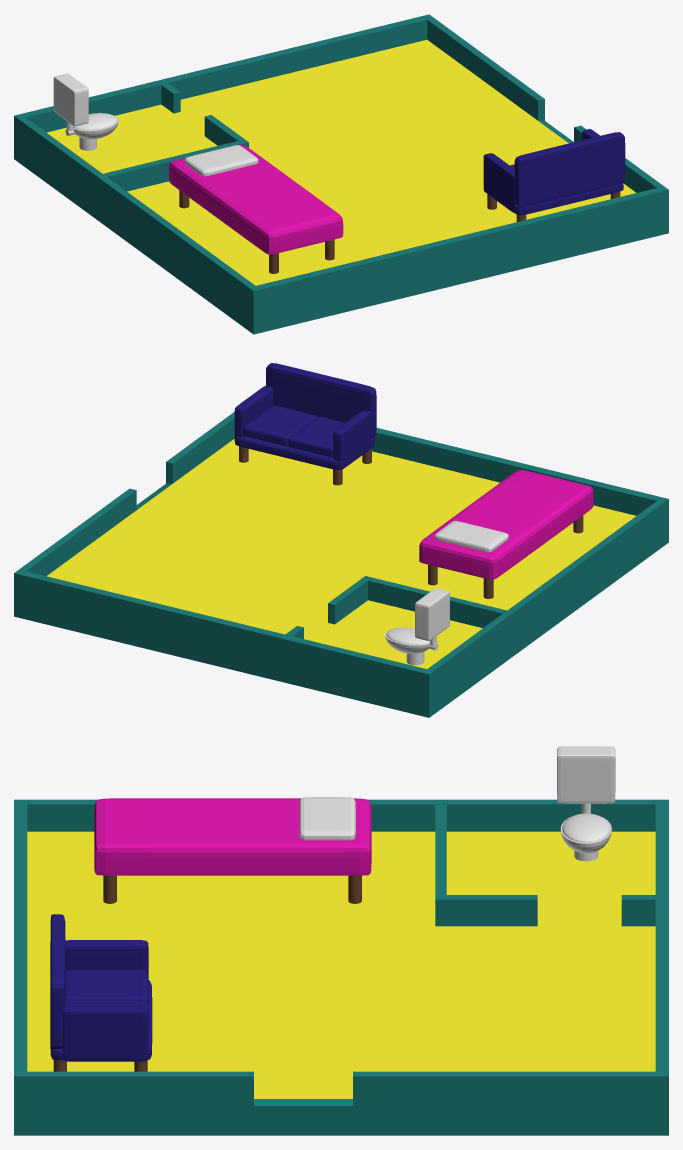
Rendered from FloorRoom_-_Copy_-_Copy.fbx.
The picture shows the model from 3 angles, top to bottom: view 1: azimuth 30°, elevation 25°; view 2: azimuth 150°, elevation 25°; view 3: azimuth 270°, elevation 25°; orthographic projection. The views are drawn at different scales.
Parts seen in each view (by area): view 1: Room.001; view 2: Room.001; view 3: Room.001.
Boxes of the visible parts, x1,y1,x2,y2 form: Room.001: [14, 14, 668, 334]; Room.001: [14, 363, 668, 717]; Room.001: [14, 746, 668, 1135].
Bounding box in the file's own units: 200 × 44.69 × 200.
